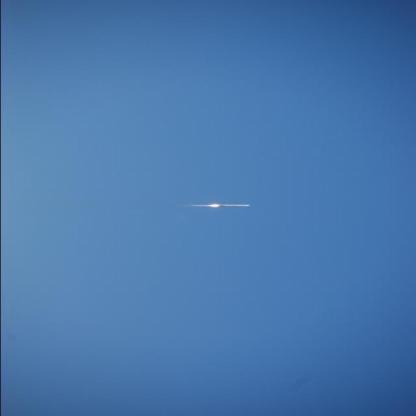MIL_TBM: (216, 203, 250, 208)
